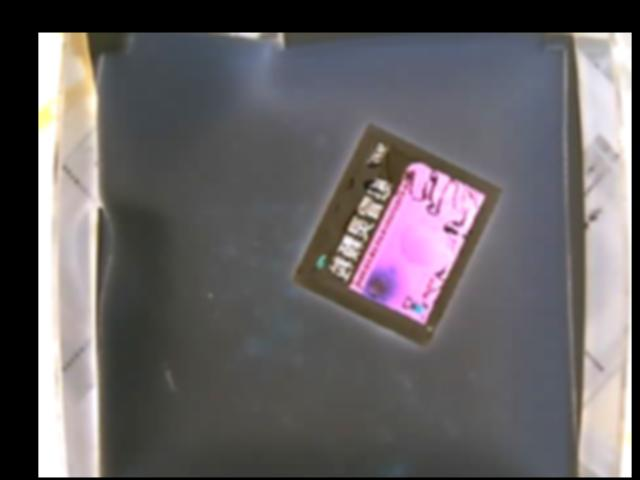Medicine: (291, 123, 505, 346)
